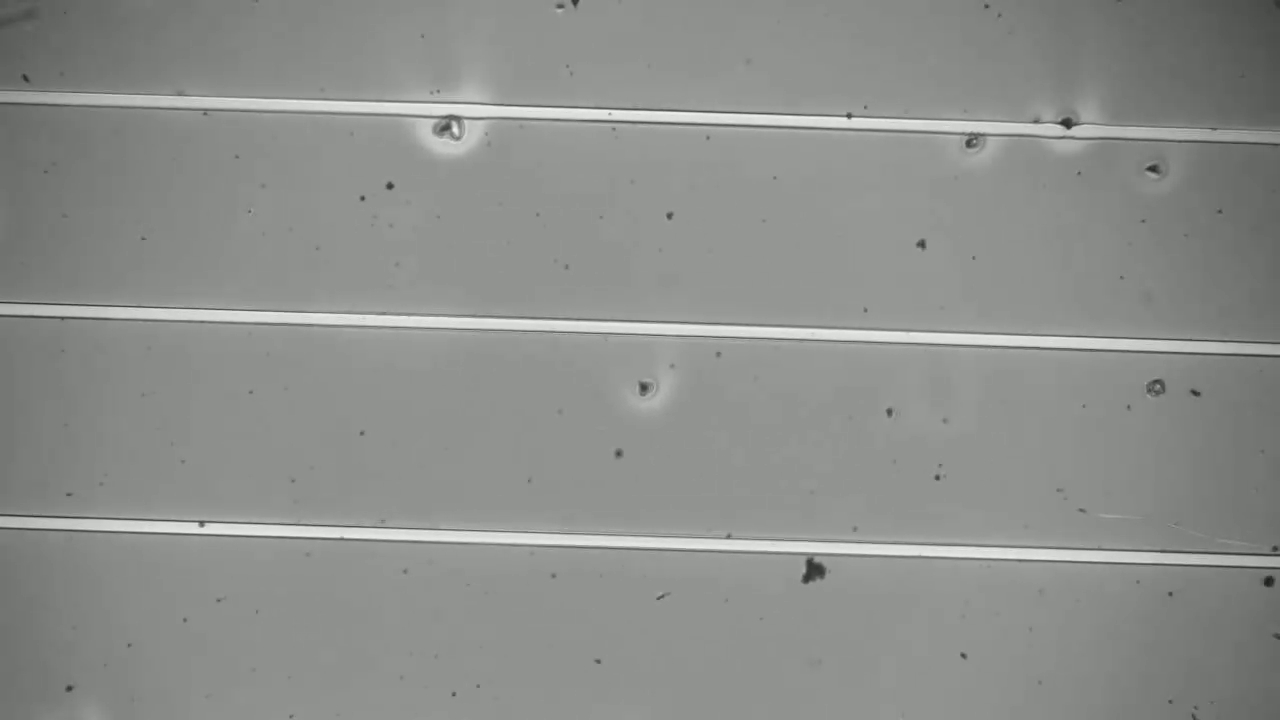stains_enbedded: (1052, 111, 1081, 141)
